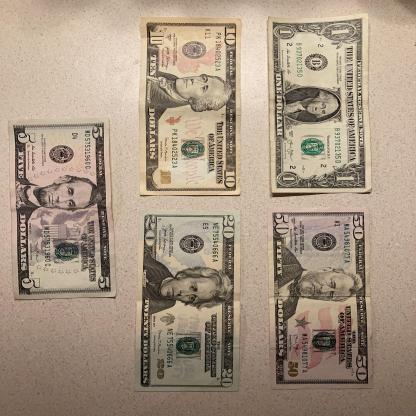fifty-front: (266, 206, 374, 390)
five-front: (8, 118, 118, 301)
one-front: (266, 13, 374, 194)
ten-front: (139, 16, 242, 196)
twenty-front: (134, 210, 242, 392)
